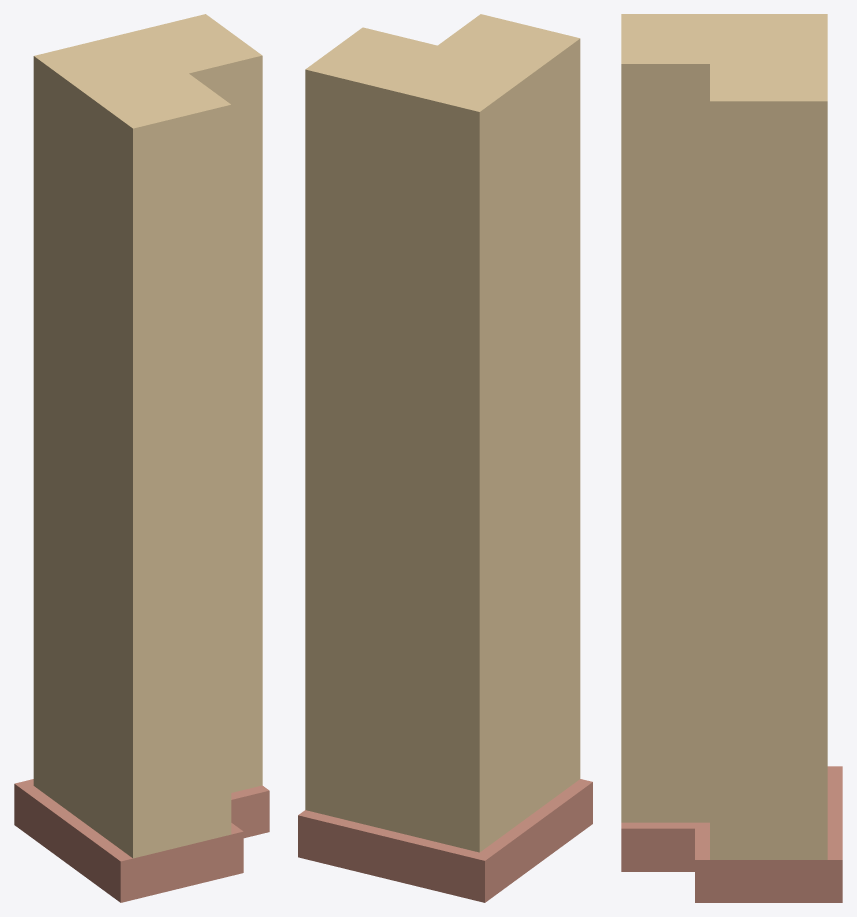
The model's file is Wall_Corner.glb.
3 views of the same model, side by side, from view 1: azimuth 30°, elevation 25°; view 2: azimuth 150°, elevation 25°; view 3: azimuth 270°, elevation 25° (orthographic). The views are drawn at different scales.
Parts seen in each view (by area): view 1: Wall_Corner; view 2: Wall_Corner; view 3: Wall_Corner.
Boxes of the visible parts, x1,y1,x2,y2 form: Wall_Corner: (14,14,269,902); Wall_Corner: (298,14,592,902); Wall_Corner: (621,14,842,902).
Size of the model in its own units: 0.75 by 3 by 0.7501.
